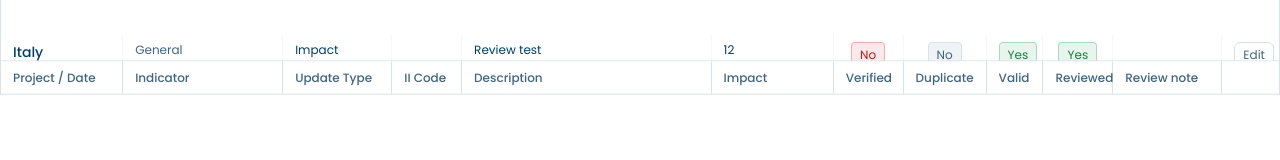
marking Duplicate immediately updates the Valid cell too
Click the 2nd button "No": (945, 55) [928, 42, 962, 68]
Wait 550 ms
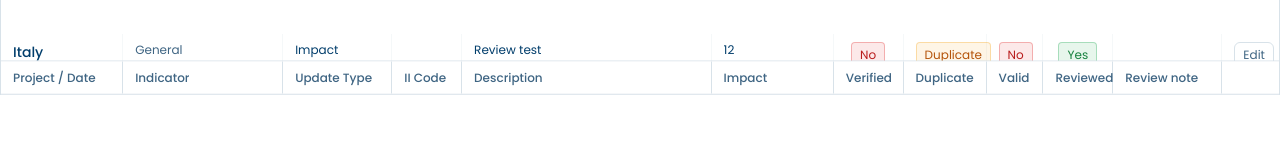
Check: the button "Duplicate" is shown, box [916, 42, 991, 68]
Check: the 2nd button "No" is shown, box [999, 42, 1033, 68]
